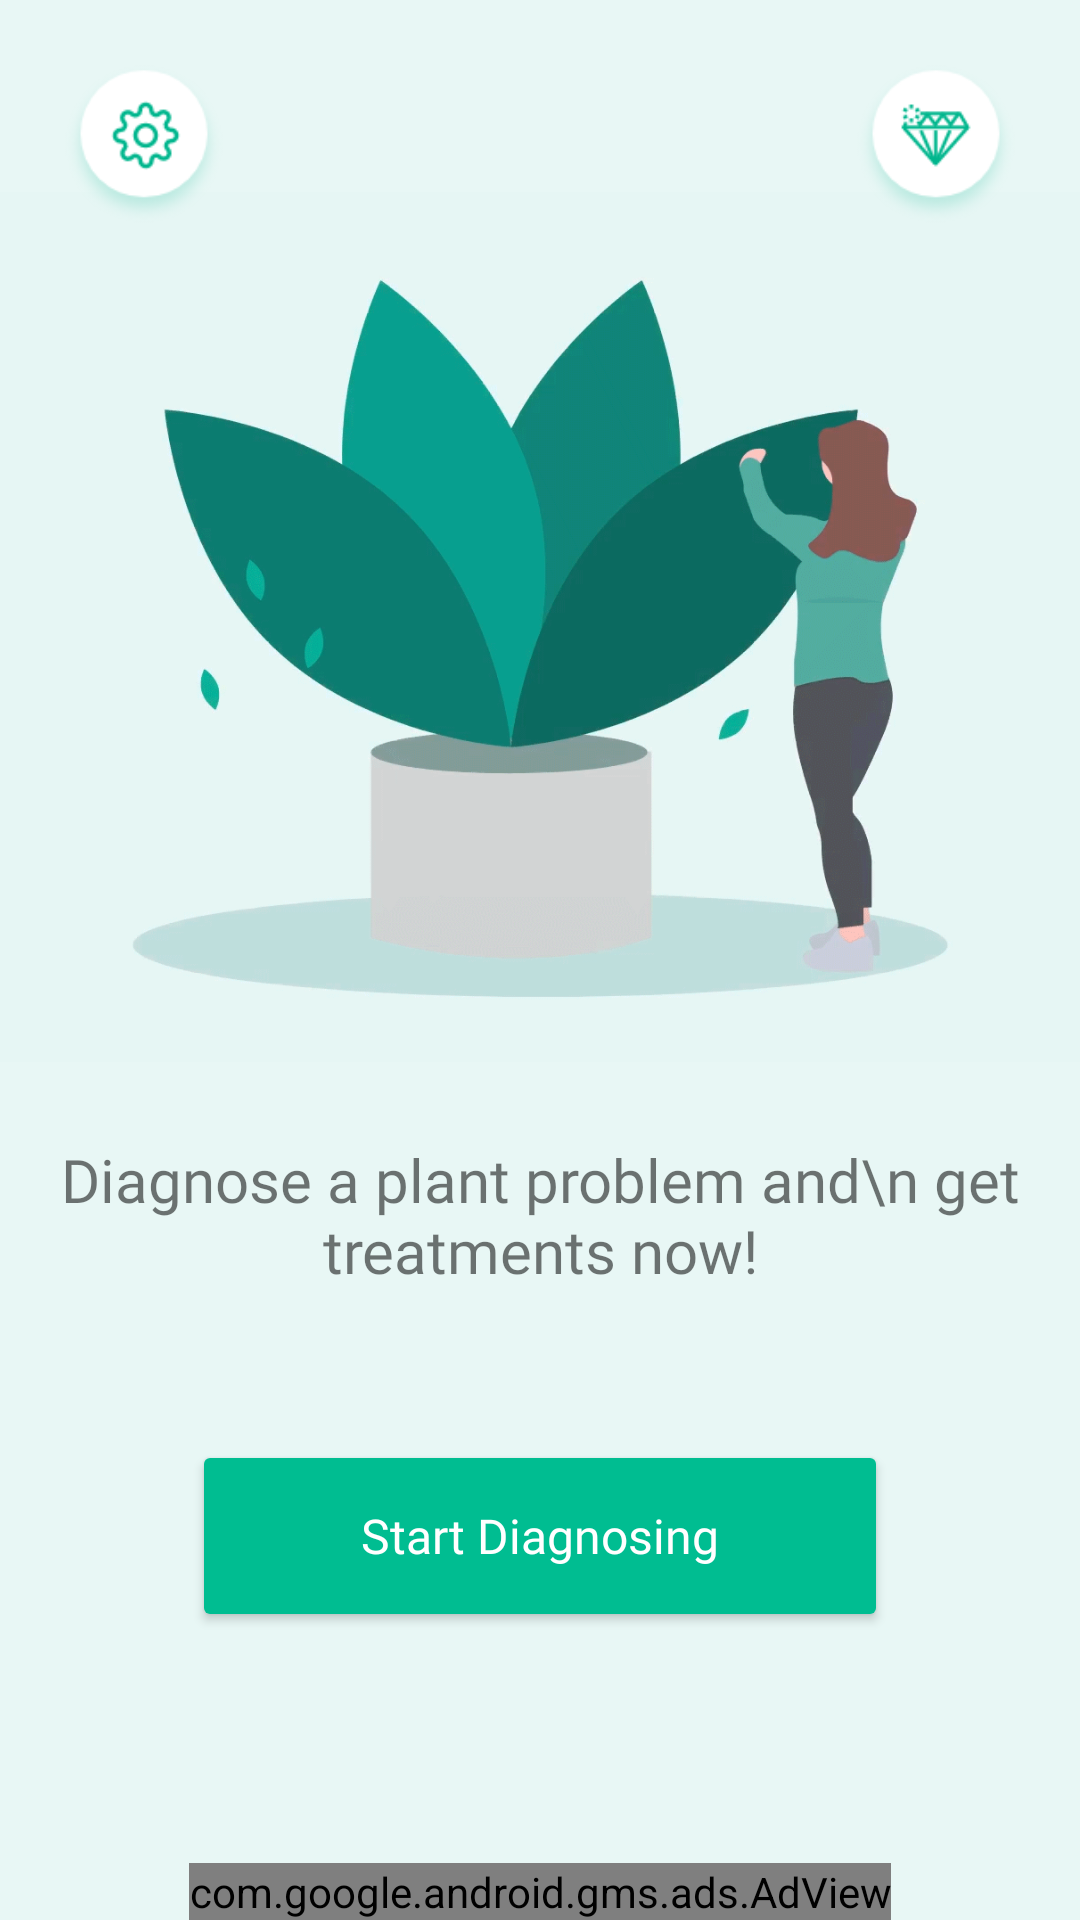

Named icons in this screenshot (1080×1920) and their centers, point (x, y):
premium: point (936, 142)
settings: point (144, 142)
